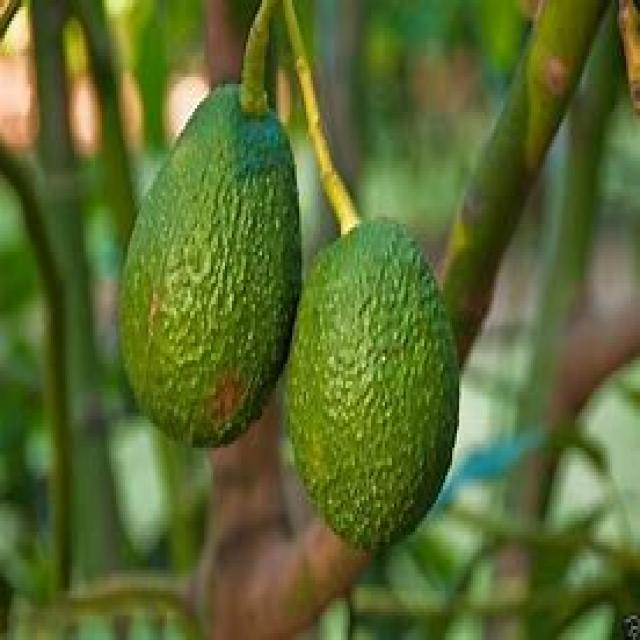Avocado: (114, 69, 289, 445), (290, 222, 470, 558)
